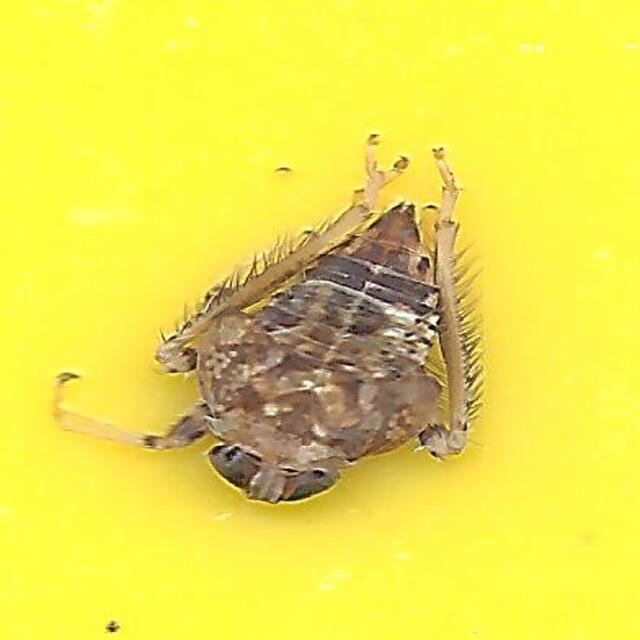Hemiptera: (163, 133, 477, 507)
